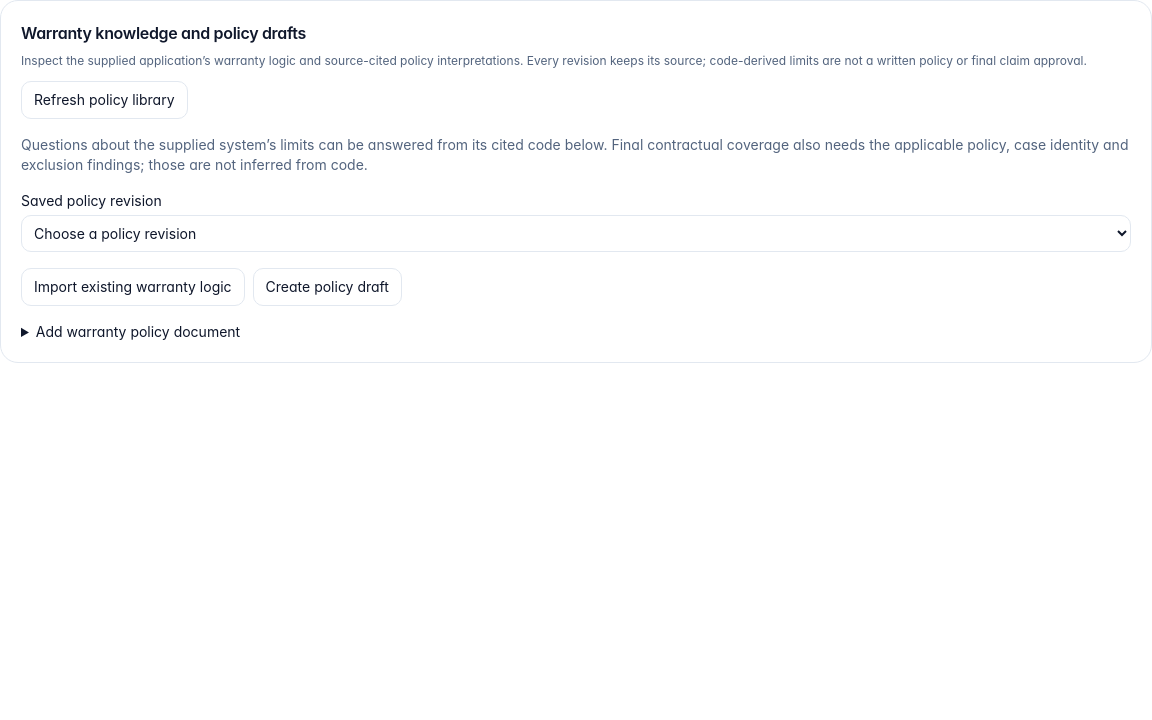
Test case: keeps revision selection stable during slow reads and ignores stale responses
Later steps or results of the test are not shown.
Select "Fixture policy draft · Revision 1 · Policy document draft" in the dropdown labelled "Saved policy revision" at [576, 234], box 21,215 -> 1131,252
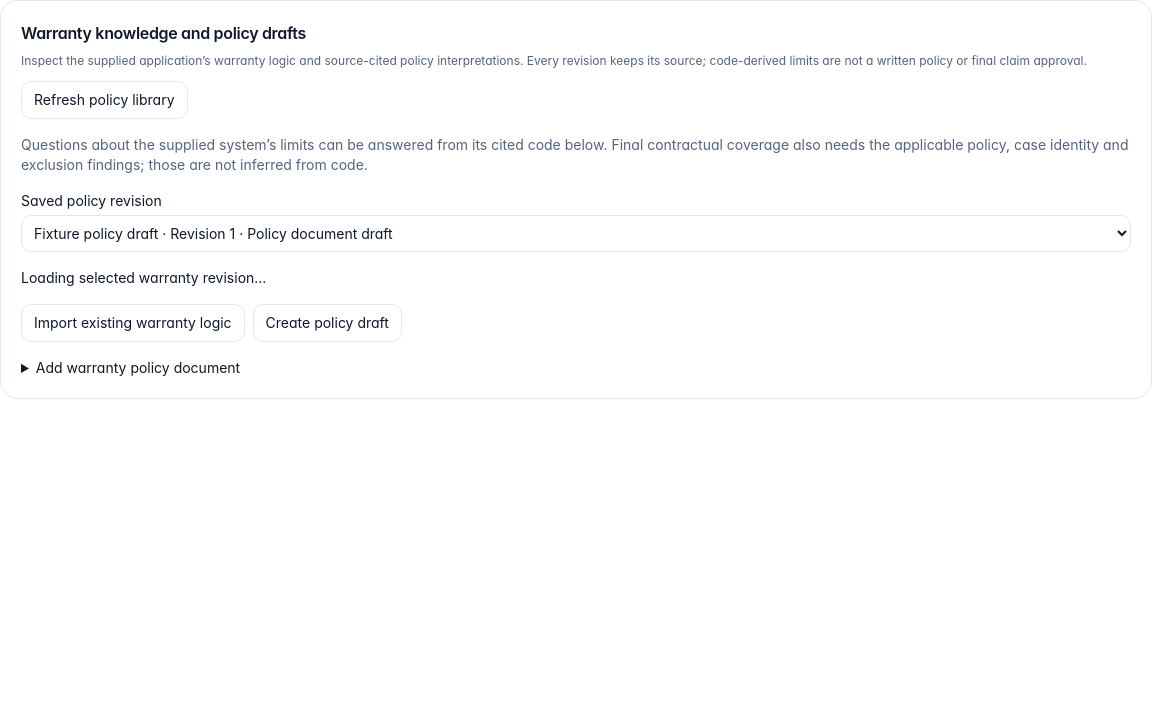
Expected: the text "Loading selected warranty revision…" is shown, 21,269 -> 266,286
Select "New revision · Revision 2 · Policy document draft" in the dropdown labelled "Saved policy revision" at [576, 234], box 21,215 -> 1131,252
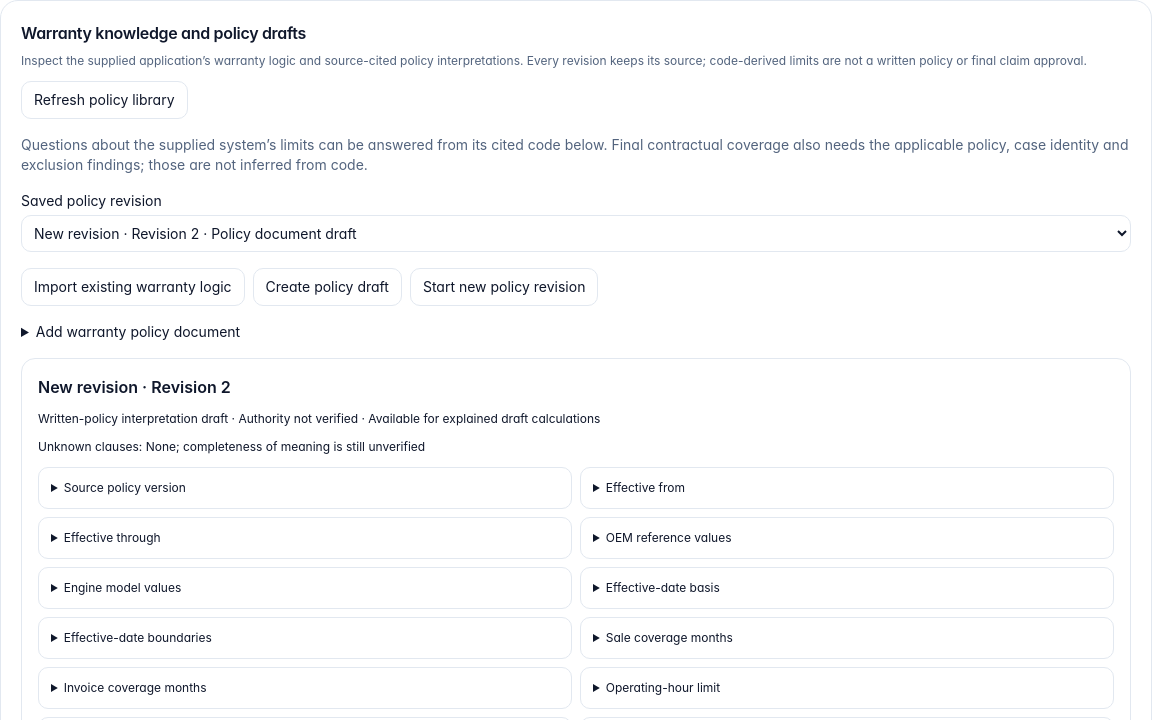
Expected: the text "Fixture policy draft · Revision 1" is not shown
Expected: the heading "New revision · Revision 2" is shown, 38,377 -> 231,397
